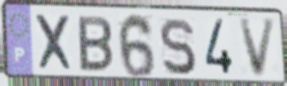4: (203, 16, 236, 78)
6: (116, 11, 158, 80)
B: (76, 14, 115, 75)
S: (157, 16, 198, 77)
V: (237, 17, 279, 80)
X: (32, 13, 77, 74)
